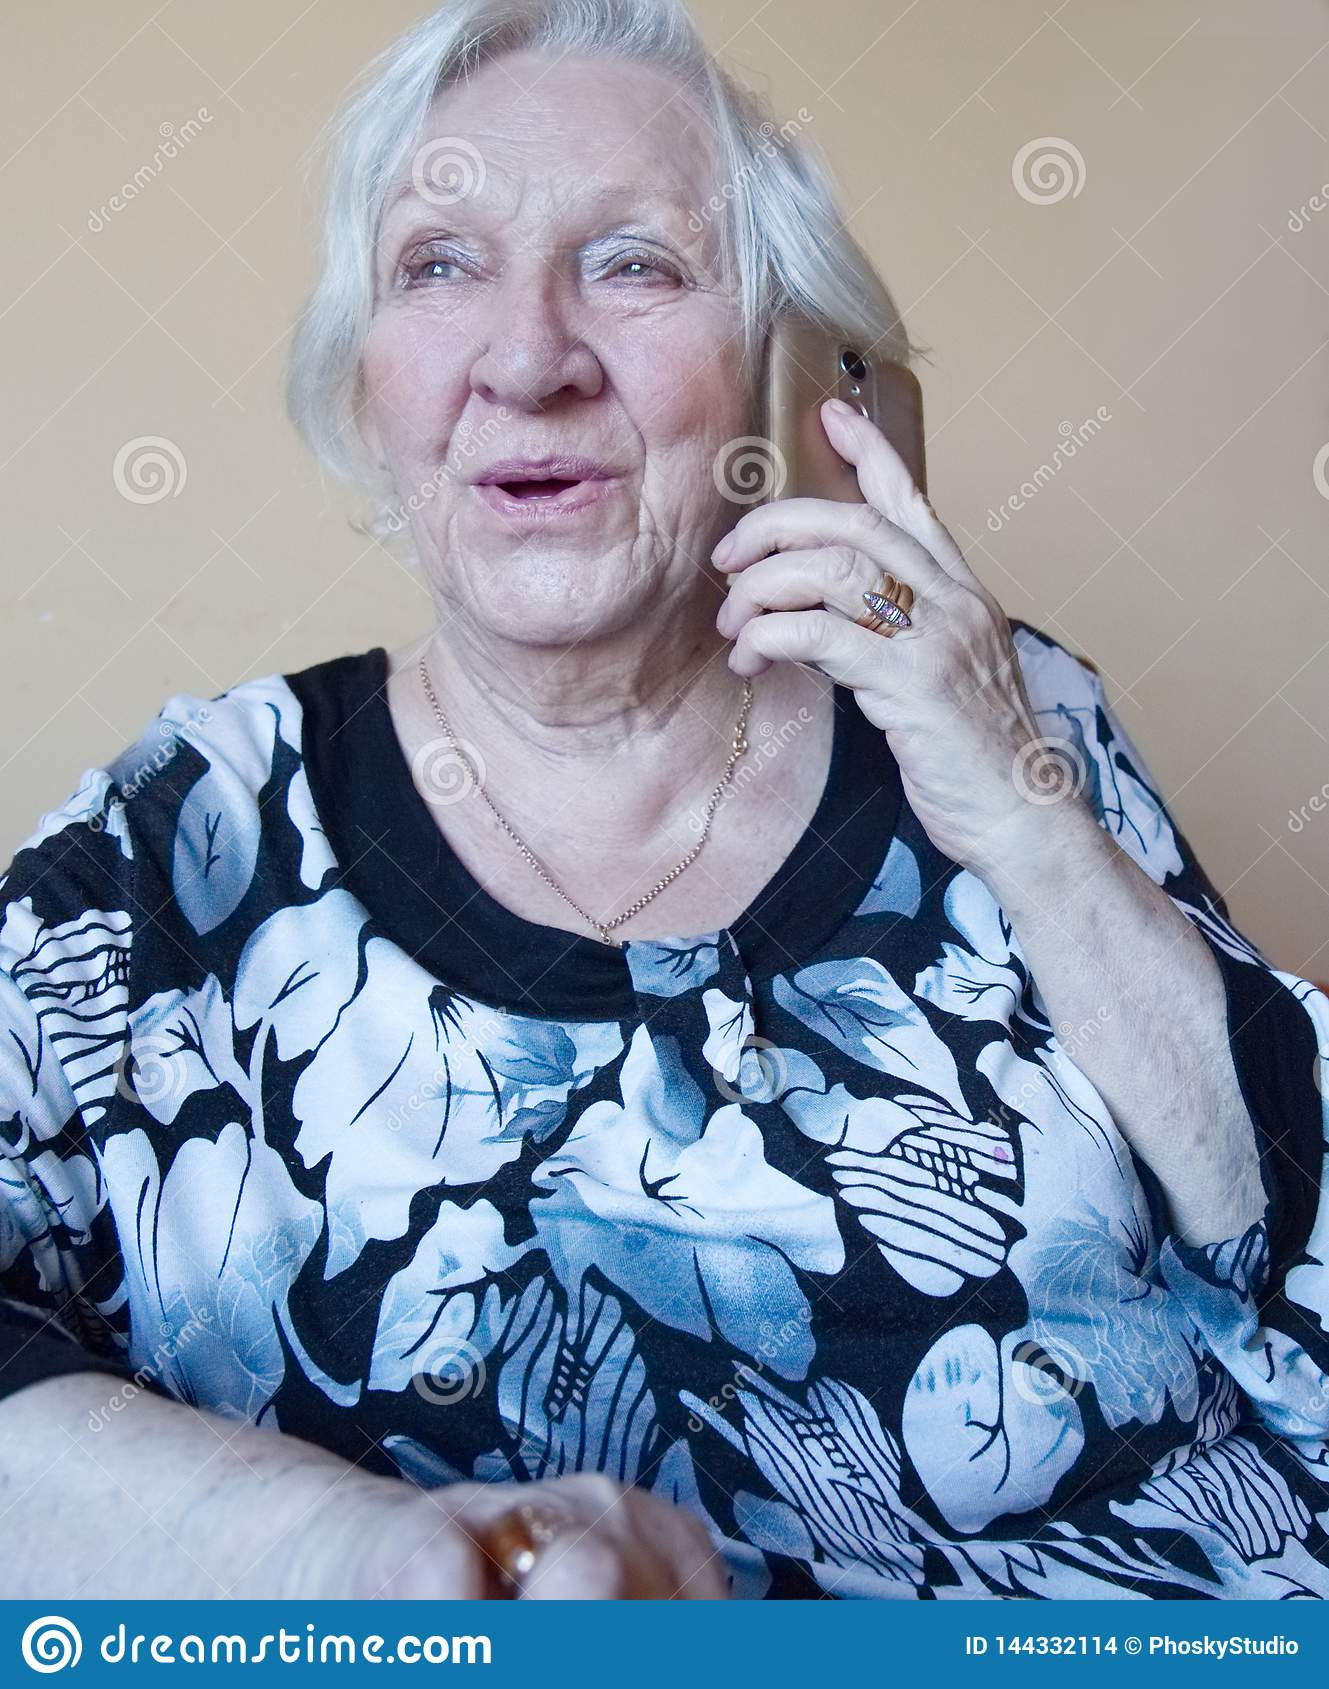phone: (752, 313, 927, 691)
talk: (366, 166, 1063, 873)
